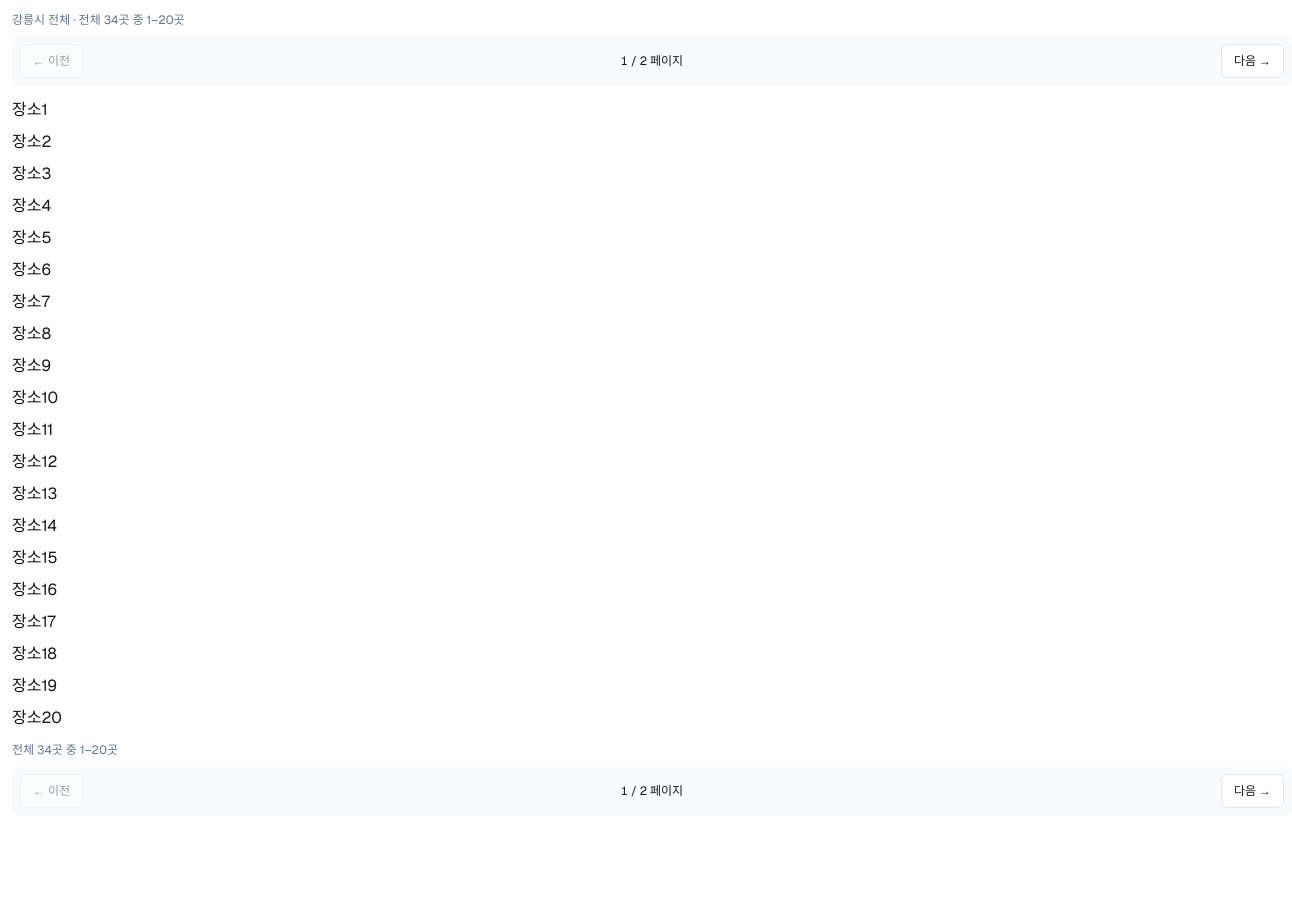
Test: 장소 목록 탐색 (#564) › 34곳의 마지막 14곳까지 이동하고 이전으로 돌아온다
What coordinates should you click on to do the following:
click the 1st button "다음 →"
I would click on:
 (1252, 61)
Its box is top-left (1221, 44), bottom-right (1284, 78).
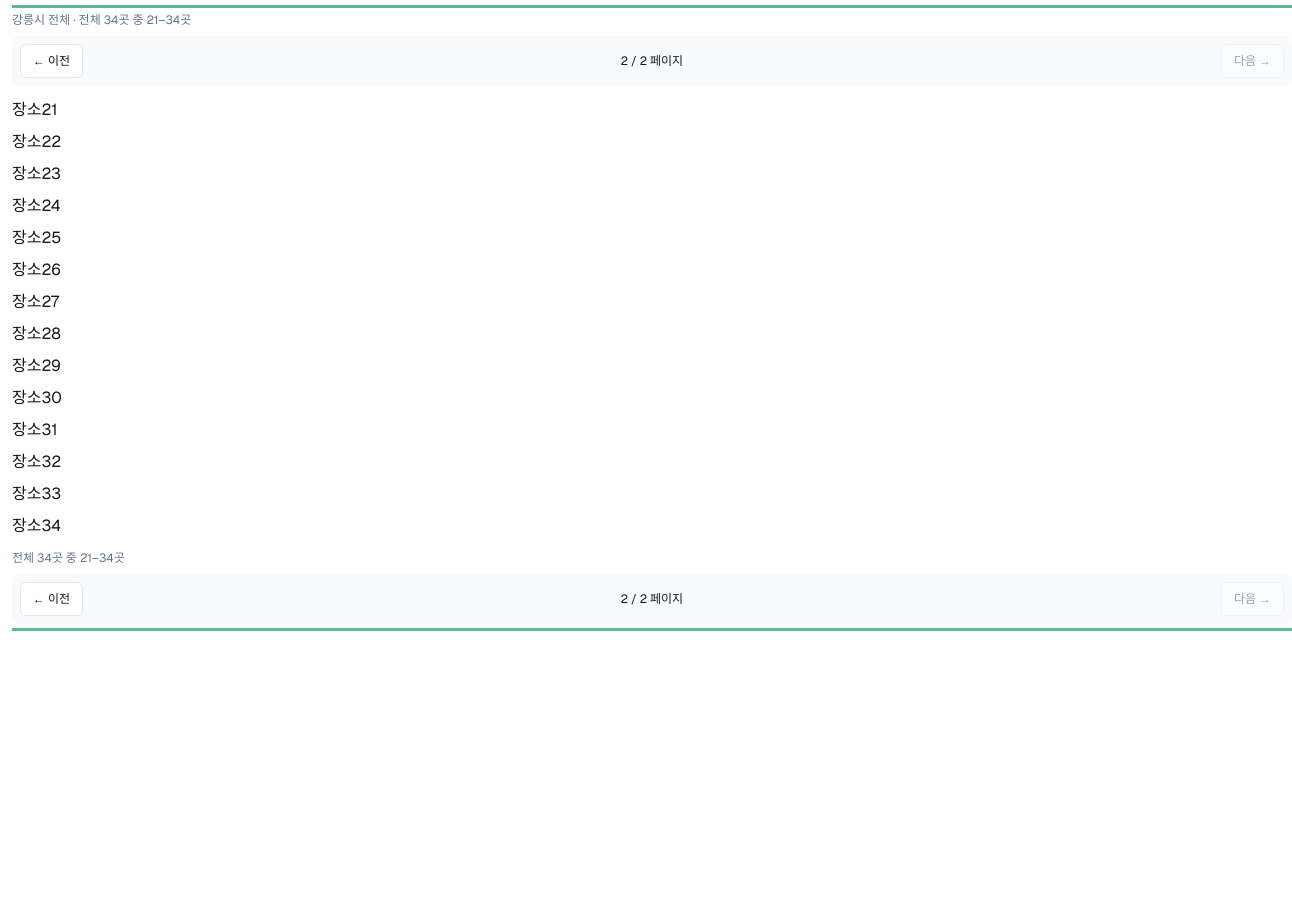
expect the text "전체 34곳 중 21–34곳" is shown: met, box top-left (12, 12), bottom-right (191, 28)
expect the number of list items is 14: met
What coordinates should you click on to do the following:
click the 1st button "← 이전"
I would click on:
 (52, 61)
Its box is top-left (20, 44), bottom-right (83, 78).
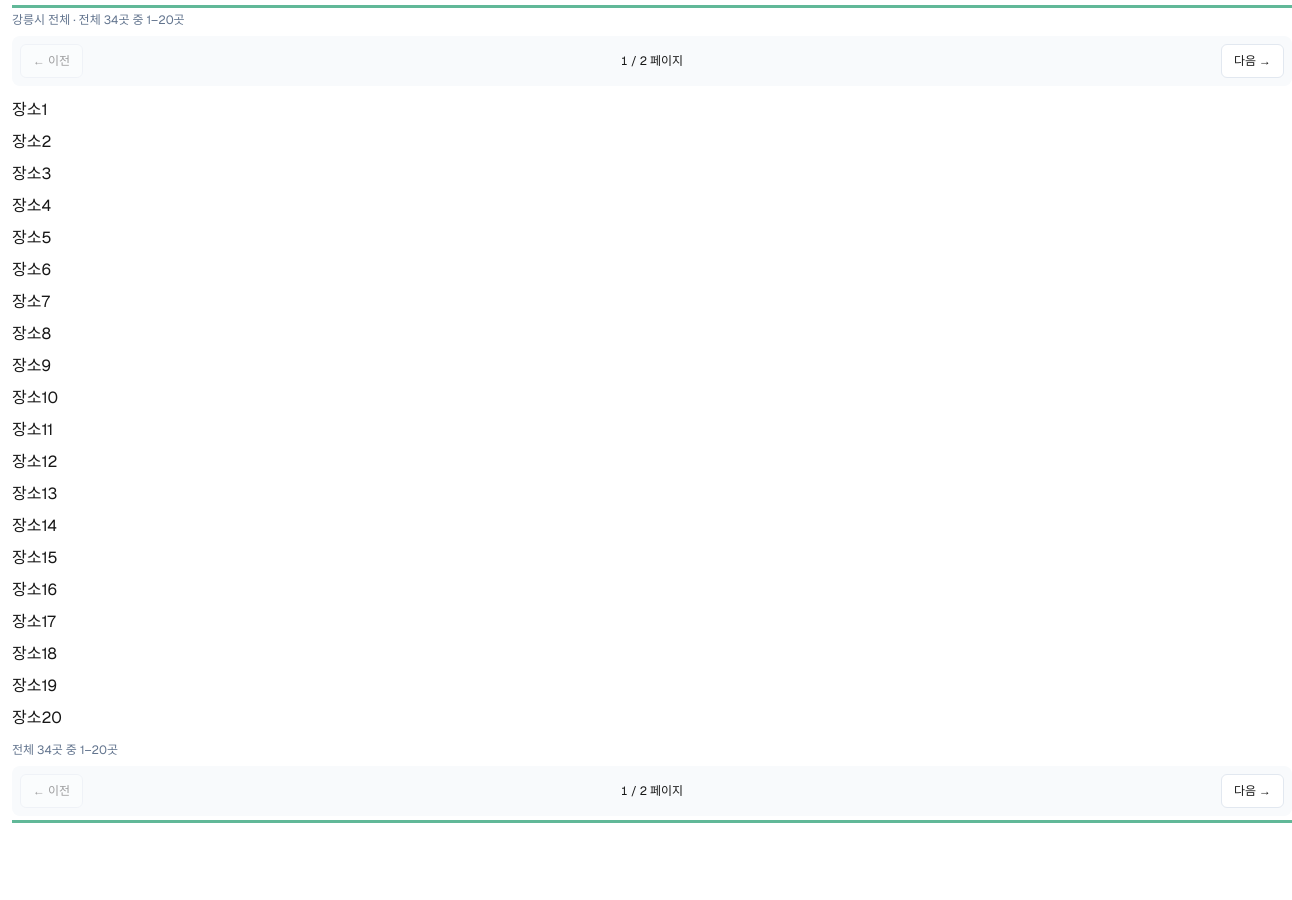
expect the text "1–20곳" is shown: met, box top-left (12, 12), bottom-right (185, 28)
